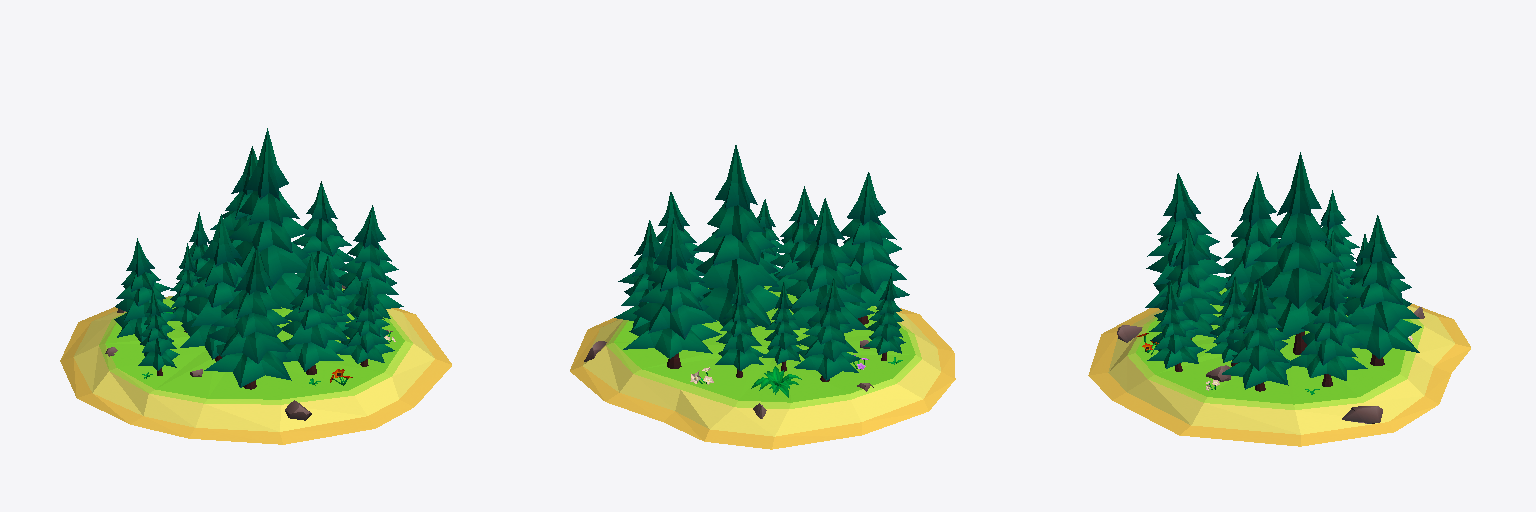
3 renders of one model, left to right at view 1: azimuth 30°, elevation 25°; view 2: azimuth 150°, elevation 25°; view 3: azimuth 270°, elevation 25°, orthographic.
Visible parts, largest first — view 1: M_Island, pine11_06, pine08_05, pine08_04, pine11_05, pine08_02, pine11_04, pine08_03, pine09_01, pine09_02, pine11_03, PINE2_02 (+23 smaller); view 2: M_Island, pine08_05, PINE05_06, pine08_06, pine08_04, PINE05_05, pine08_03, pine08_02, PINE05_04, PINE2_04, pine11_05, pine11_04 (+14 smaller); view 3: M_Island, pine08_05, pine08_04, PINE05_06, PINE05_05, pine08_03, pine08_06, pine08_02, PINE05_04, PINE01_06, PINE04_06, PINE04_05 (+24 smaller).
Part boxes in pixels (left/top/right/bottom): M_Island: left=60, top=285, right=451, bottom=444; pine11_06: left=204, top=344, right=291, bottom=387; pine08_05: left=234, top=241, right=309, bottom=289; pine08_04: left=229, top=216, right=308, bottom=252; pine11_05: left=207, top=325, right=290, bottom=363; pine08_02: left=245, top=128, right=288, bottom=200; pine11_04: left=211, top=308, right=290, bottom=337; pine08_03: left=239, top=191, right=299, bottom=226; pine09_01: left=282, top=339, right=347, bottom=371; pine09_02: left=282, top=321, right=346, bottom=348; pine11_03: left=226, top=290, right=281, bottom=318; PINE2_02: left=202, top=214, right=241, bottom=266; M_Island: left=570, top=286, right=955, bottom=449; pine08_05: left=696, top=255, right=778, bottom=293; PINE05_06: left=623, top=321, right=721, bottom=358; pine08_06: left=701, top=285, right=779, bottom=331; pine08_04: left=693, top=229, right=775, bottom=265; PINE05_05: left=633, top=301, right=716, bottom=339; pine08_03: left=707, top=201, right=765, bottom=242; pine08_02: left=715, top=145, right=757, bottom=211; PINE05_04: left=639, top=282, right=711, bottom=312; PINE2_04: left=788, top=261, right=858, bottom=291; pine11_05: left=845, top=258, right=906, bottom=293; pine11_04: left=840, top=237, right=901, bottom=266; M_Island: left=1088, top=288, right=1470, bottom=446; pine08_05: left=1255, top=263, right=1337, bottom=308; pine08_04: left=1254, top=240, right=1340, bottom=274; PINE05_06: left=1348, top=319, right=1421, bottom=358; PINE05_05: left=1343, top=298, right=1419, bottom=332; pine08_03: left=1270, top=212, right=1329, bottom=248; pine08_06: left=1269, top=296, right=1319, bottom=336; pine08_02: left=1277, top=152, right=1321, bottom=215; PINE05_04: left=1342, top=277, right=1411, bottom=308; PINE01_06: left=1222, top=355, right=1292, bottom=389; PINE04_06: left=1290, top=351, right=1367, bottom=380; PINE04_05: left=1300, top=332, right=1362, bottom=365.
Bounding box in the file's own units: 9.45 × 6.11 × 9.22.
13 materials, 13 textured.